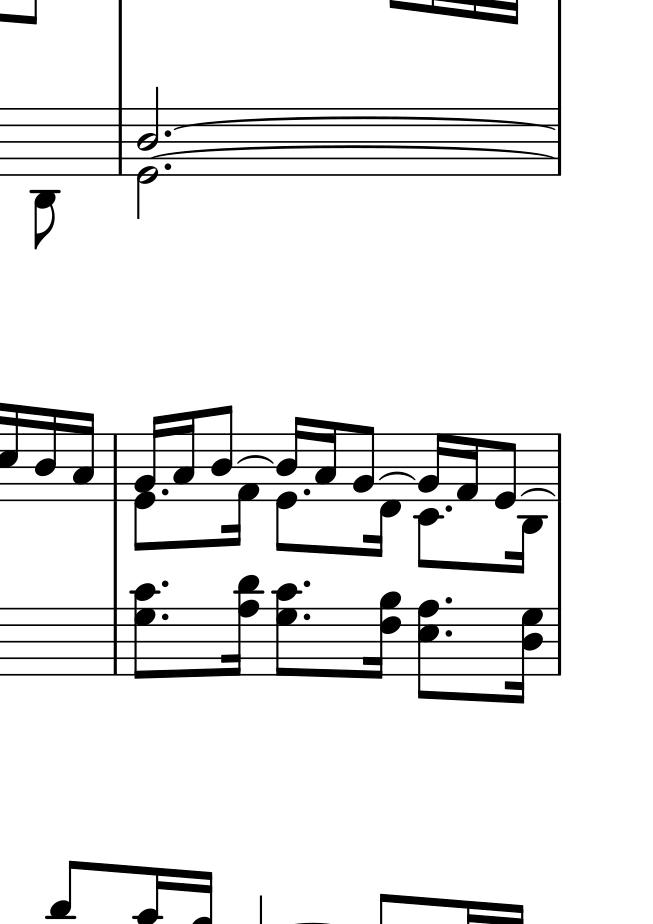16_-1: (368, 435, 402, 558)
16_-3: (511, 433, 545, 577)
16_1: (226, 430, 261, 547), (454, 432, 480, 504)
16_2: (416, 431, 446, 501)
16_3: (70, 410, 95, 502), (171, 410, 195, 502), (313, 419, 337, 502)
16_4: (32, 407, 59, 503)
16_4_7: (503, 607, 544, 705)
16_5: (1, 403, 19, 504)
16_6_9: (364, 591, 401, 681)
16_8_11: (222, 575, 264, 676)
2_0_4: (137, 86, 160, 222)
8_-3: (29, 105, 59, 251)
8_0: (492, 432, 518, 511)
8_2: (351, 424, 376, 501)
8_4: (209, 404, 233, 501)
8_5_8: (416, 599, 440, 701)
8_7_10: (128, 582, 160, 680), (271, 581, 303, 679)
Single_barline: (550, 610, 568, 680), (107, 433, 124, 501), (107, 608, 124, 675), (549, 433, 565, 501), (551, 111, 567, 177), (113, 108, 126, 175)
Slur: (172, 115, 553, 130), (151, 146, 557, 157), (519, 487, 555, 500), (236, 454, 273, 466), (379, 471, 415, 482)
dot: (158, 577, 171, 593), (158, 610, 172, 624), (300, 577, 313, 591), (442, 627, 455, 641), (300, 486, 313, 499), (442, 502, 454, 516), (161, 127, 173, 140), (159, 487, 172, 499), (442, 594, 454, 607), (301, 610, 312, 623), (162, 162, 173, 172)
